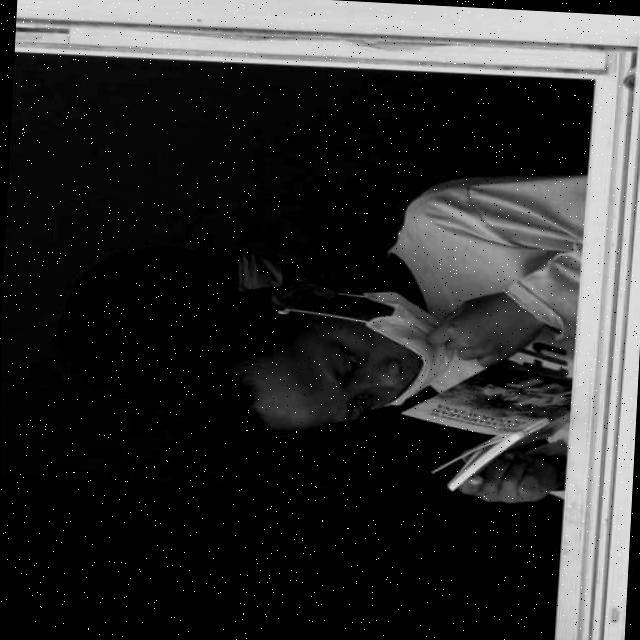mask: (222, 237, 284, 301)
no_apron: (438, 305, 530, 387), (456, 446, 559, 506)
no_gloves: (194, 302, 262, 430)
no_hairnet: (366, 299, 448, 417)
